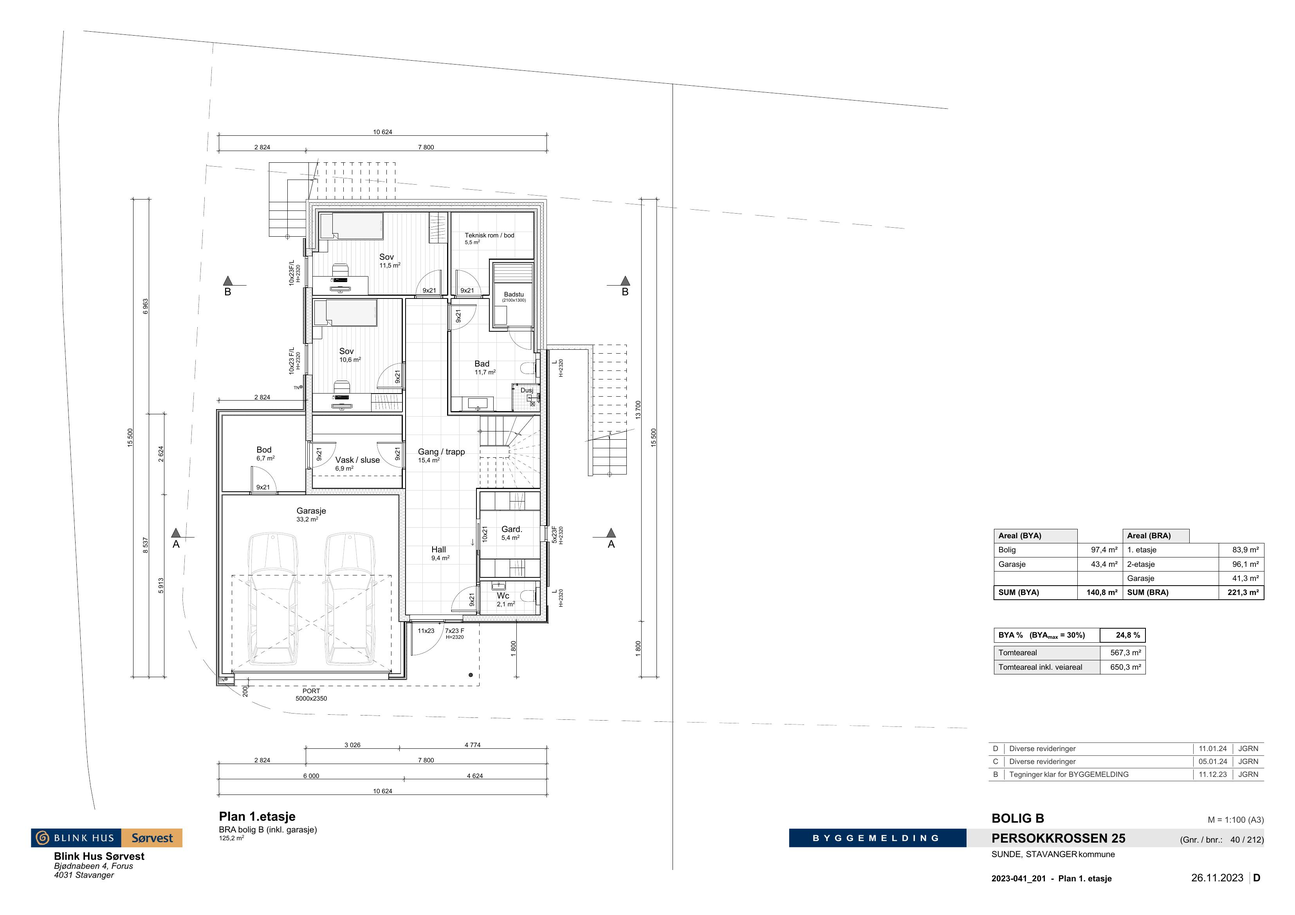plantegning: (218, 161, 548, 686)
